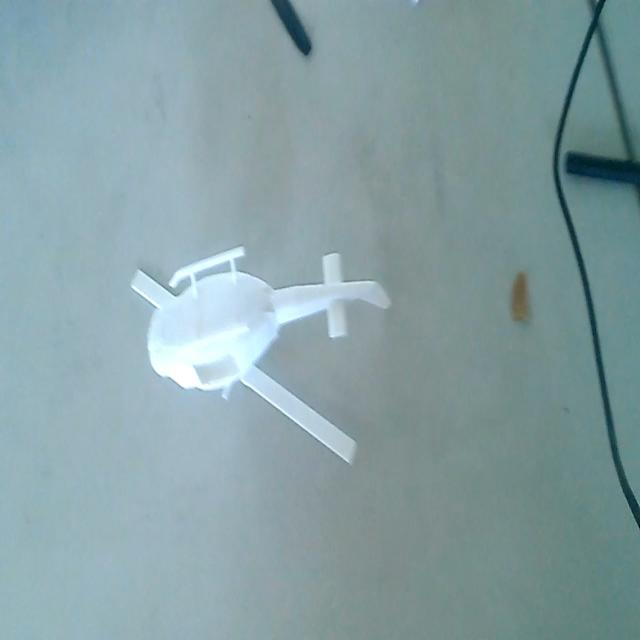Helicopter: (126, 239, 387, 479)
